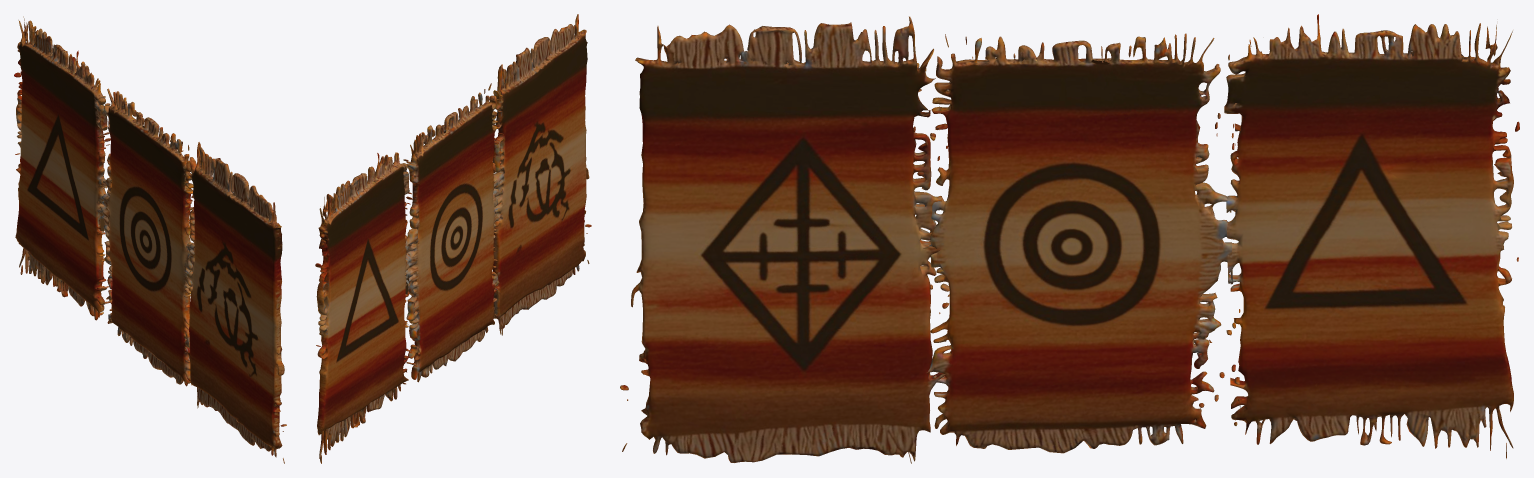
The model's file is telas.fbx.
3 renders of one model, left to right at view 1: azimuth 30°, elevation 25°; view 2: azimuth 150°, elevation 25°; view 3: azimuth 270°, elevation 25°, orthographic. The views are drawn at different scales.
Visible parts, largest first — view 1: tripo_node_a35b66c4.003, tripo_node_a35b66c4.001, tripo_node_a35b66c4.002, tripo_node_a35b66c4; view 2: tripo_node_a35b66c4.003, tripo_node_a35b66c4.001, tripo_node_a35b66c4.002, tripo_node_a35b66c4; view 3: tripo_node_a35b66c4.003, tripo_node_a35b66c4.001, tripo_node_a35b66c4.002, tripo_node_a35b66c4.
Part boxes in pixels (x1,y1,x2,y2): tripo_node_a35b66c4.003: (184, 142, 284, 457); tripo_node_a35b66c4.001: (15, 16, 107, 320); tripo_node_a35b66c4.002: (99, 88, 193, 386); tripo_node_a35b66c4: (14, 29, 286, 463); tripo_node_a35b66c4.003: (493, 14, 589, 334); tripo_node_a35b66c4.001: (316, 152, 409, 458); tripo_node_a35b66c4.002: (405, 92, 500, 382); tripo_node_a35b66c4: (315, 68, 591, 463); tripo_node_a35b66c4.003: (631, 16, 945, 462); tripo_node_a35b66c4.001: (1224, 14, 1513, 450); tripo_node_a35b66c4.002: (923, 33, 1232, 453); tripo_node_a35b66c4: (620, 23, 1519, 463).
Bounding box in the file's own units: 1.91 × 54.69 × 98.82.
